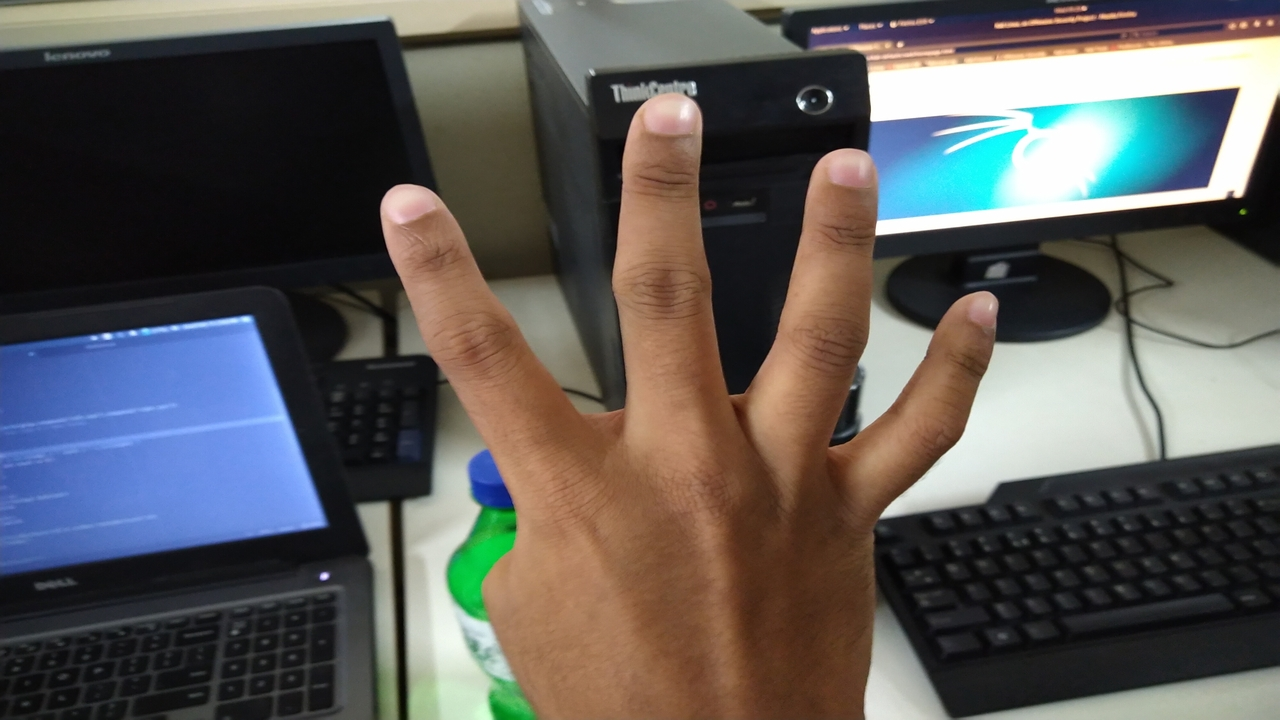fingertip: (364, 176, 448, 244), (628, 88, 706, 156), (816, 138, 884, 208), (944, 284, 1010, 346)
